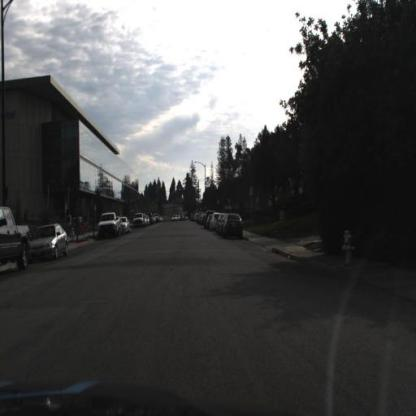car: (2, 202, 32, 274), (29, 222, 71, 263), (28, 220, 68, 263), (97, 212, 120, 239), (224, 212, 245, 240), (224, 214, 245, 239), (132, 210, 148, 229), (121, 214, 132, 237)
